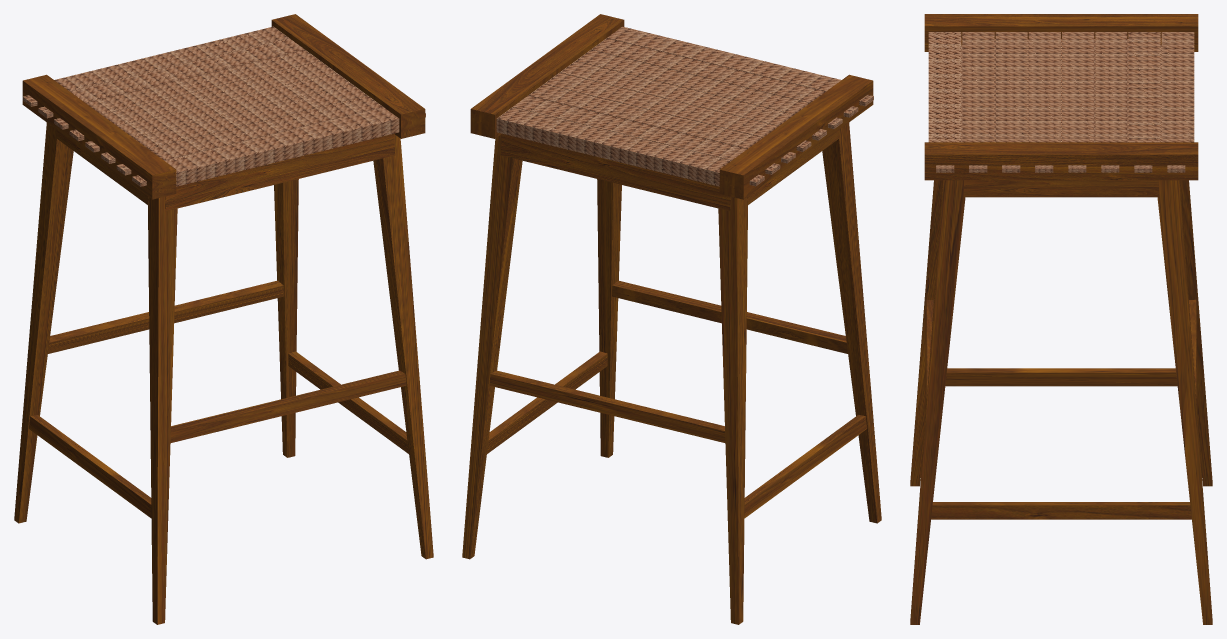
Rendered from Indian-Barstool.glb.
3 renders of one model, left to right at view 1: azimuth 30°, elevation 25°; view 2: azimuth 150°, elevation 25°; view 3: azimuth 270°, elevation 25°, orthographic. The views are drawn at different scales.
Visible parts, largest first — view 1: Cube.006, Cube.001, Cube.002, Cube.008, Cube.003, Cube.011, Cube.012, Cube.014, Cube.013, Cube.005, Cube.009; view 2: Cube.006, Cube.001, Cube.002, Cube.007, Cube.003, Cube.012, Cube.011, Cube.014, Cube.013, Cube.005, Cube.009; view 3: Cube.001, Cube.006, Cube.003, Cube.002, Cube.013, Cube.014, Cube.010, Cube.004, Cube.011, Cube.012.
Part boxes in pixels (x1,y1,x2,y2): Cube.006: [14, 122, 433, 624]; Cube.001: [54, 26, 399, 186]; Cube.002: [22, 74, 176, 199]; Cube.008: [165, 133, 395, 211]; Cube.003: [271, 14, 425, 138]; Cube.011: [170, 370, 406, 442]; Cube.012: [48, 280, 283, 353]; Cube.014: [29, 415, 151, 518]; Cube.013: [288, 351, 408, 453]; Cube.005: [22, 95, 146, 186]; Cube.009: [56, 129, 148, 205]; Cube.006: [462, 122, 881, 624]; Cube.001: [496, 26, 841, 186]; Cube.002: [719, 74, 873, 199]; Cube.007: [500, 133, 730, 211]; Cube.003: [470, 14, 624, 138]; Cube.012: [489, 370, 725, 442]; Cube.011: [612, 280, 847, 353]; Cube.014: [744, 415, 866, 518]; Cube.013: [487, 351, 607, 453]; Cube.005: [749, 95, 873, 186]; Cube.009: [747, 129, 839, 205]; Cube.001: [928, 32, 1194, 142]; Cube.006: [910, 38, 1212, 624]; Cube.003: [924, 142, 1198, 180]; Cube.002: [924, 14, 1198, 51]; Cube.013: [931, 502, 1191, 519]; Cube.014: [945, 368, 1177, 386]; Cube.010: [964, 180, 1158, 197]; Cube.004: [936, 165, 1185, 172]; Cube.011: [925, 299, 933, 411]; Cube.012: [1189, 299, 1197, 411].
Size of the model in its own units: 0.4587 by 0.6825 by 0.3985.
2 materials, 2 textured.
